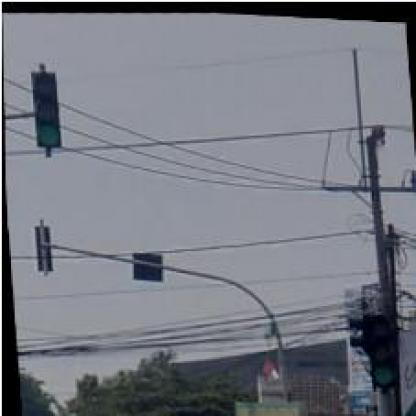green: (28, 69, 60, 148), (363, 310, 396, 383)
